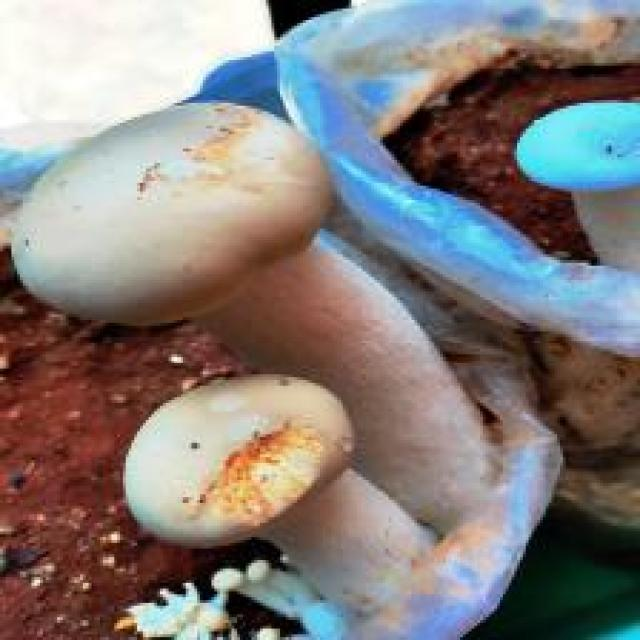death-cap: (6, 97, 334, 326)
